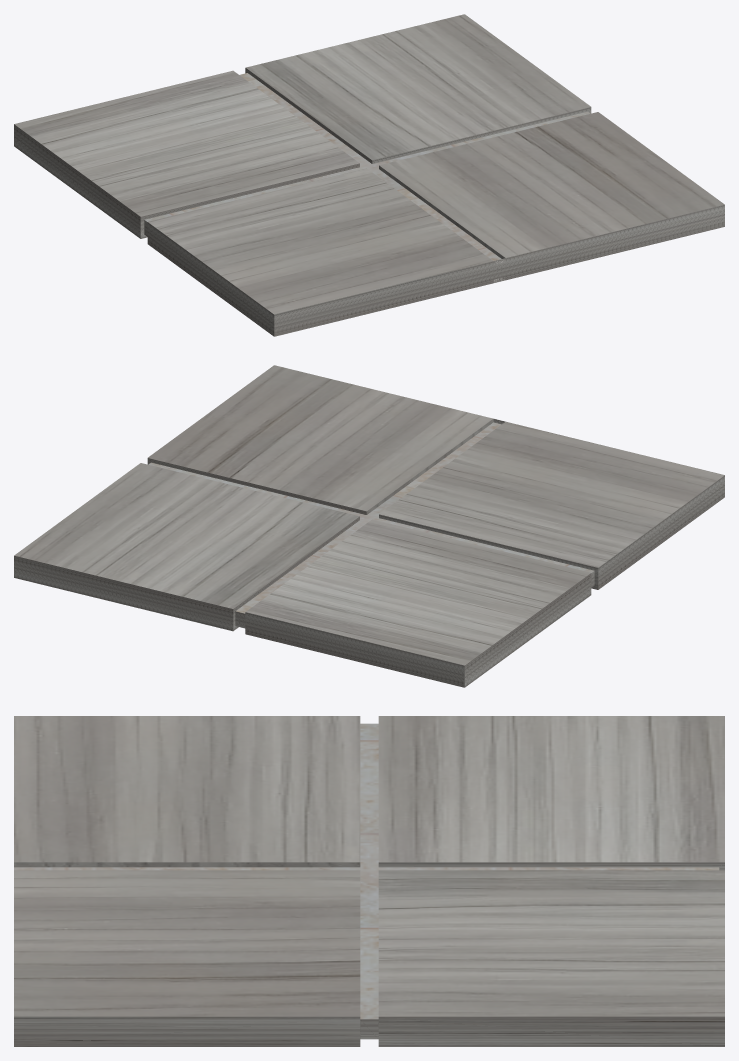
Rendered from Floor2.fbx.
The picture shows the model from 3 angles, top to bottom: view 1: azimuth 30°, elevation 25°; view 2: azimuth 150°, elevation 25°; view 3: azimuth 270°, elevation 25°; orthographic projection. The views are drawn at different scales.
Parts seen in each view (by area): view 1: pCube60; view 2: pCube60; view 3: pCube60.
Boxes of the visible parts, x1,y1,x2,y2 form: pCube60: (14,14,724,336); pCube60: (14,365,724,687); pCube60: (14,716,724,1046).
Size of the model in its own units: 13.85 by 0.6525 by 13.85.
Materials: 1 (1 with a texture image).
